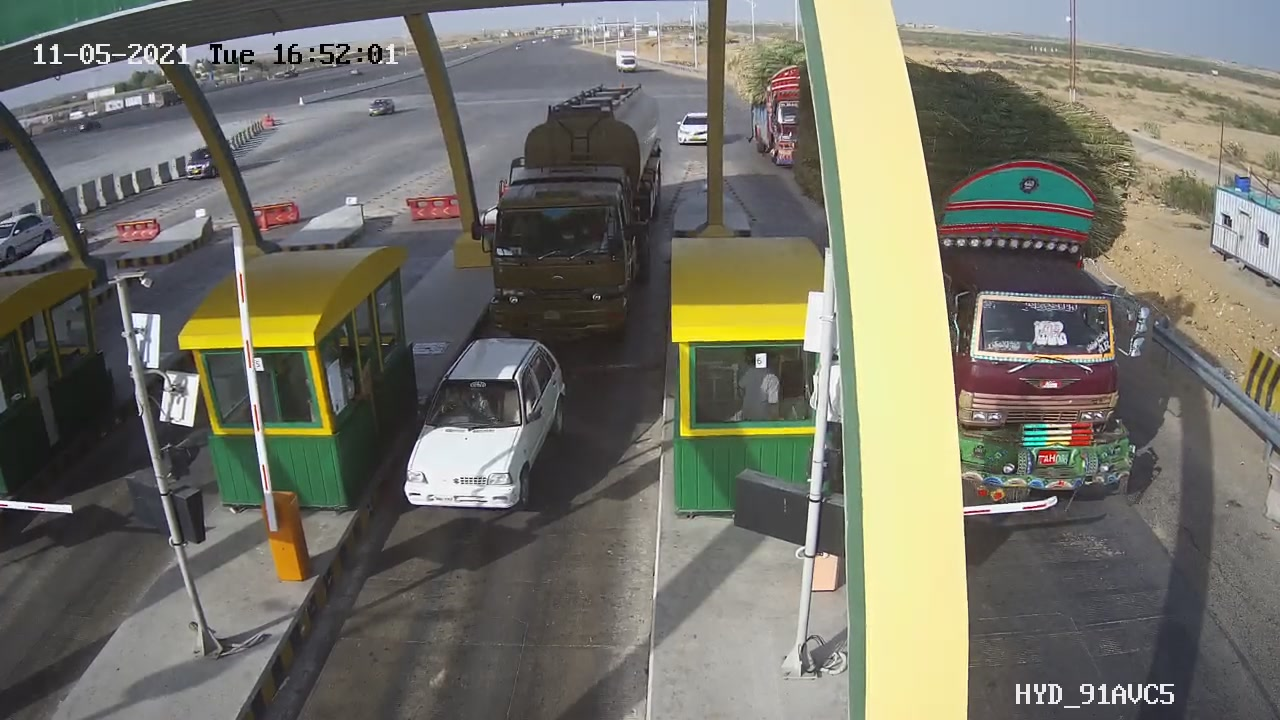F1: (394, 327, 571, 537)
F6: (474, 56, 675, 337)
